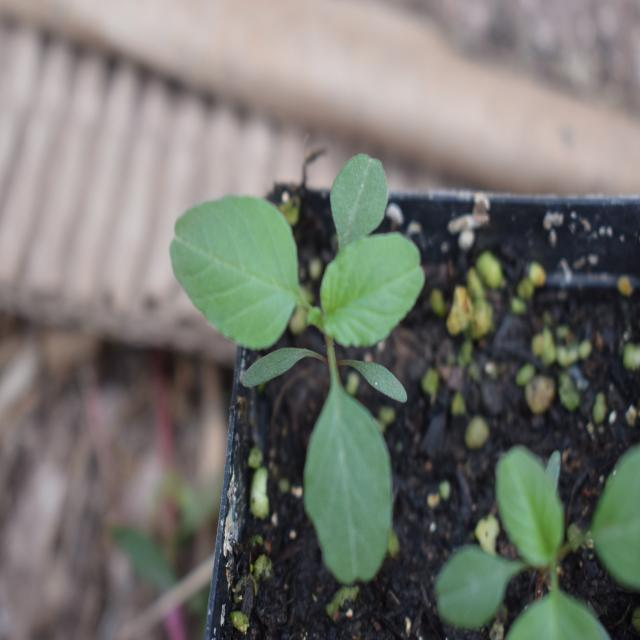pigweed: (178, 149, 437, 571)
